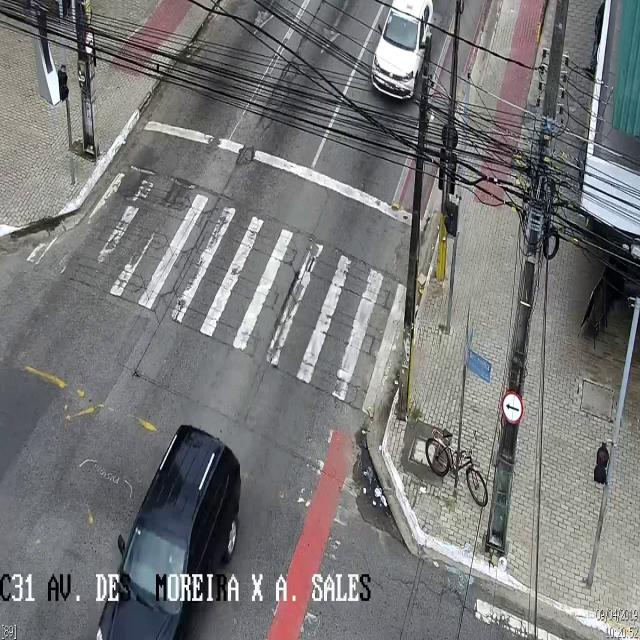Car: (96, 422, 242, 639), (374, 1, 434, 99)
